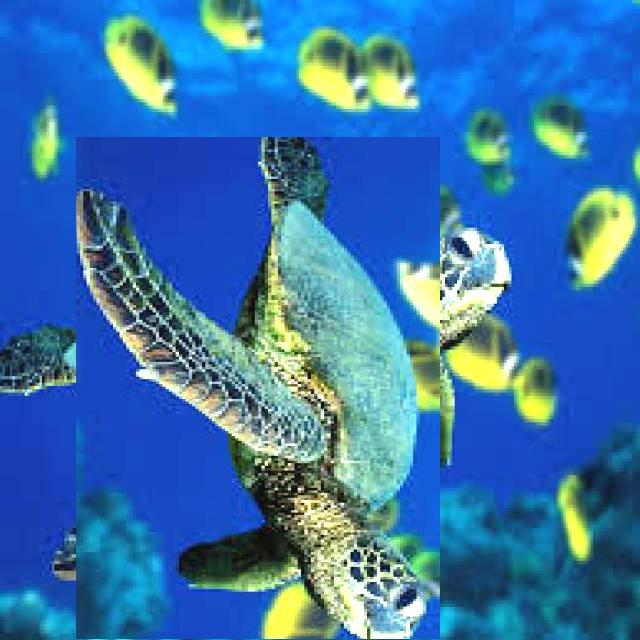Sea turtle: (38, 175, 478, 616)
